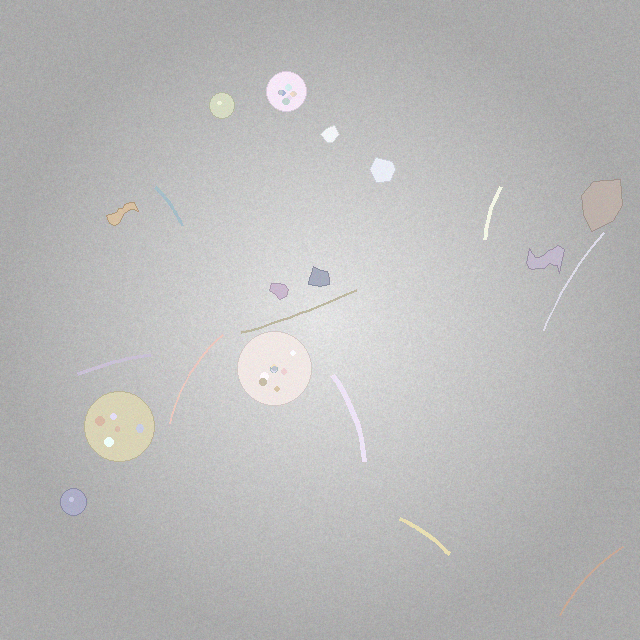fiber: (540, 230, 607, 333), (239, 287, 359, 336), (167, 333, 225, 426), (557, 544, 625, 619), (328, 370, 370, 467), (395, 513, 454, 559), (73, 351, 154, 379), (151, 183, 186, 229), (480, 183, 505, 244)
film: (526, 246, 564, 273), (107, 202, 138, 226)
foam: (237, 332, 311, 405), (84, 391, 154, 461), (266, 72, 307, 112)
fragment: (582, 180, 623, 232), (370, 157, 396, 183), (309, 267, 329, 287), (270, 283, 289, 300), (321, 126, 340, 142)
pellet: (60, 489, 87, 515), (210, 93, 235, 118)
